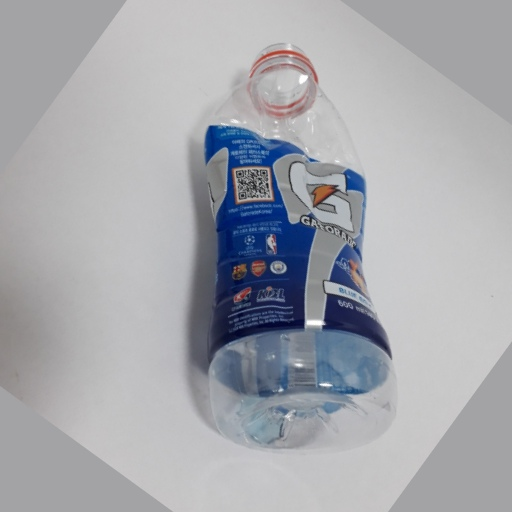Plastic_0: (199, 38, 397, 455)
